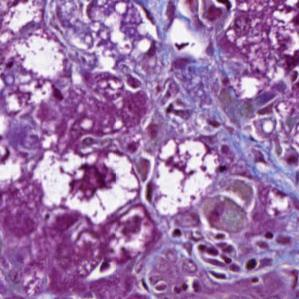inflammation: (166, 221, 261, 289)
